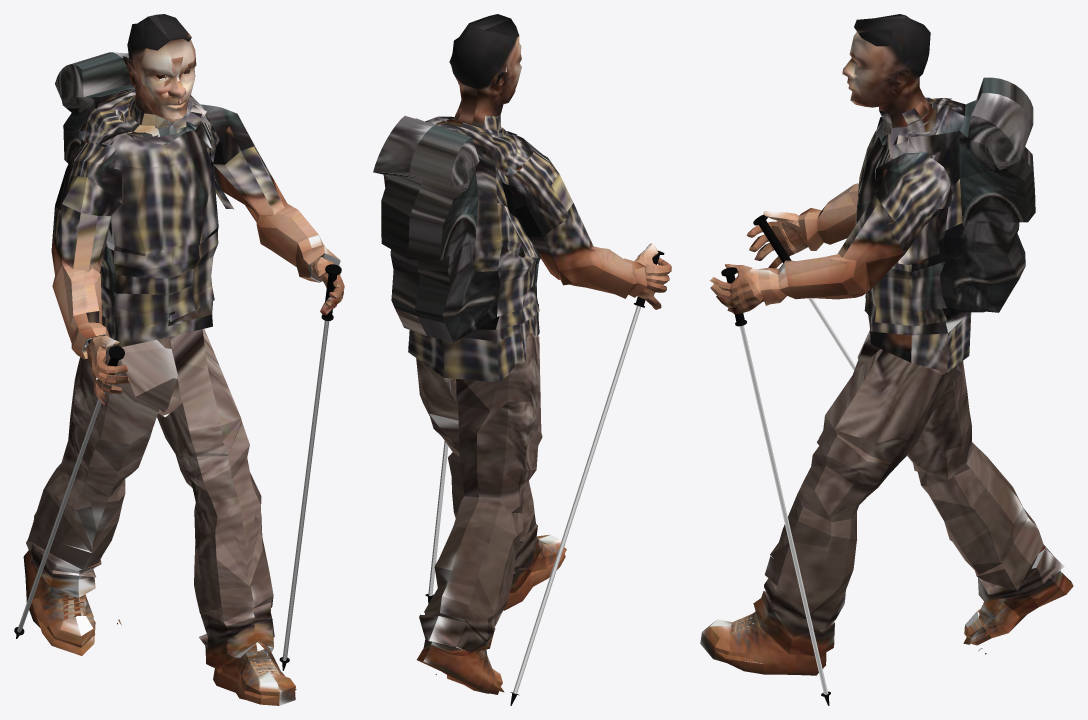
The model's file is Randonneur.glb.
3 views of the same model, side by side, from view 1: azimuth 30°, elevation 25°; view 2: azimuth 150°, elevation 25°; view 3: azimuth 270°, elevation 25° (orthographic). The views are drawn at different scales.
Parts seen in each view (by area): view 1: Homme, jambe gauche, jambedroite, Bras droit, Bras gauche, Tête; view 2: Homme, jambedroite, Bras droit, Tête, jambe gauche, Bras gauche; view 3: Homme, jambe gauche, jambedroite, Bras gauche, Tête, Bras droit.
Part boxes in pixels (x1,y1,x2,y2): Homme: (55, 52, 233, 347); jambe gauche: (157, 329, 296, 705); jambedroite: (23, 340, 177, 655); Bras droit: (14, 141, 129, 638); Bras gauche: (200, 104, 344, 670); Tête: (123, 14, 196, 121); Homme: (373, 114, 545, 382); jambedroite: (417, 333, 542, 694); Bras droit: (501, 148, 671, 705); Tête: (449, 14, 521, 128); jambe gauche: (416, 358, 566, 610); Bras gauche: (383, 118, 448, 603); Homme: (855, 77, 1035, 372); jambe gauche: (700, 339, 962, 675); jambedroite: (857, 330, 1073, 654); Bras gauche: (709, 152, 953, 705); Tête: (842, 14, 932, 127); Bras droit: (746, 117, 913, 464).
Bounding box in the file's own units: 1.57 × 3.99 × 2.09.
Materials: 4 (2 with a texture image).
